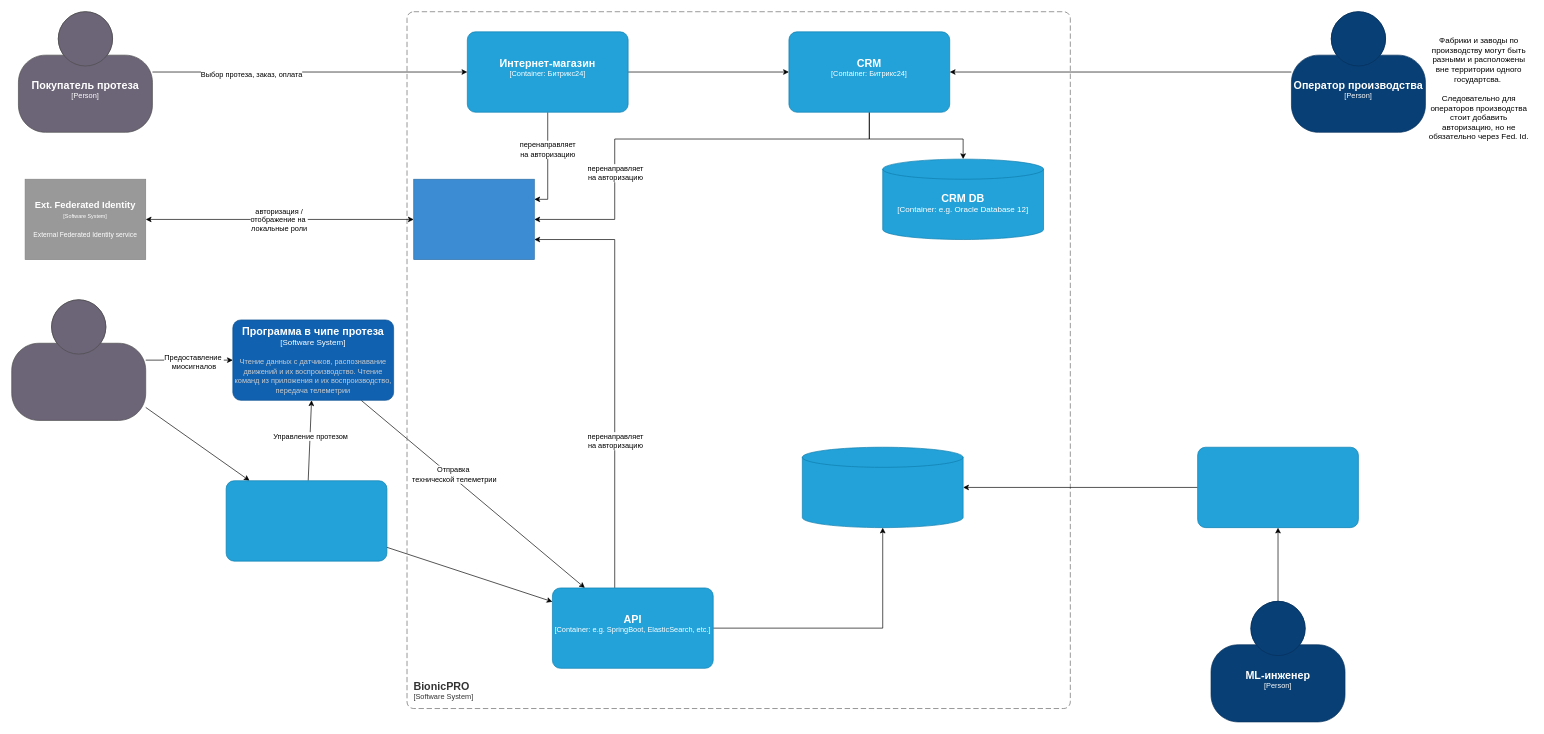
This 1544x734 diagram has some shape labels left out. Here are the shapes that lost their labels. From the top down, the centre of each, then its label:
At [473,219]: "Internal IdP [Container: Keycloak] Internal company IdP service".
At [78,359]: "Пилот протеза [Person] С этого человека считываются данные".
At [882,487]: "База данных [Container: PostgreSQL]".
At [1277,487]: "cli tool [Container: e.g. SpringBoot, ElasticSearch, etc.]".
At [306,520]: "Приложение для донастройки протеза [Container: iOD, Android]".
